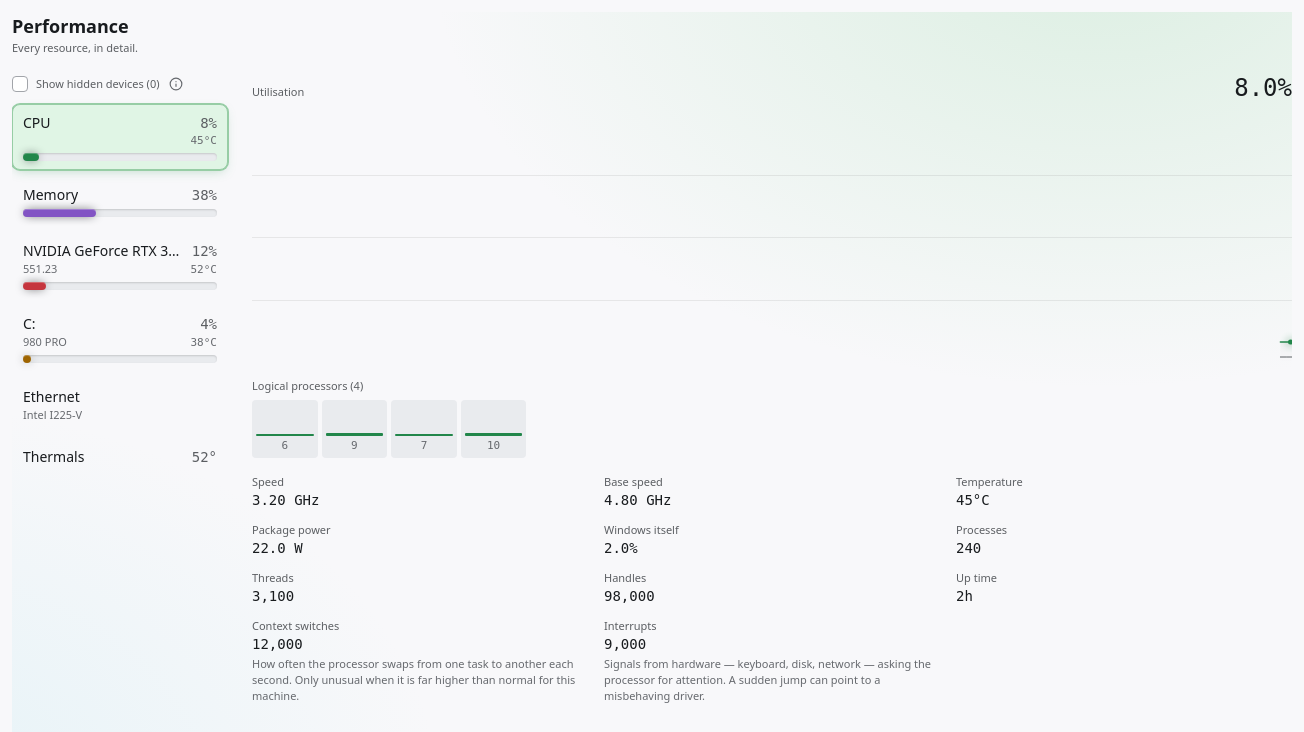
PerformanceScreen › switches panels when a resource is chosen
Click the button "Memory 38%" at (120, 201), box [12, 176, 228, 226]
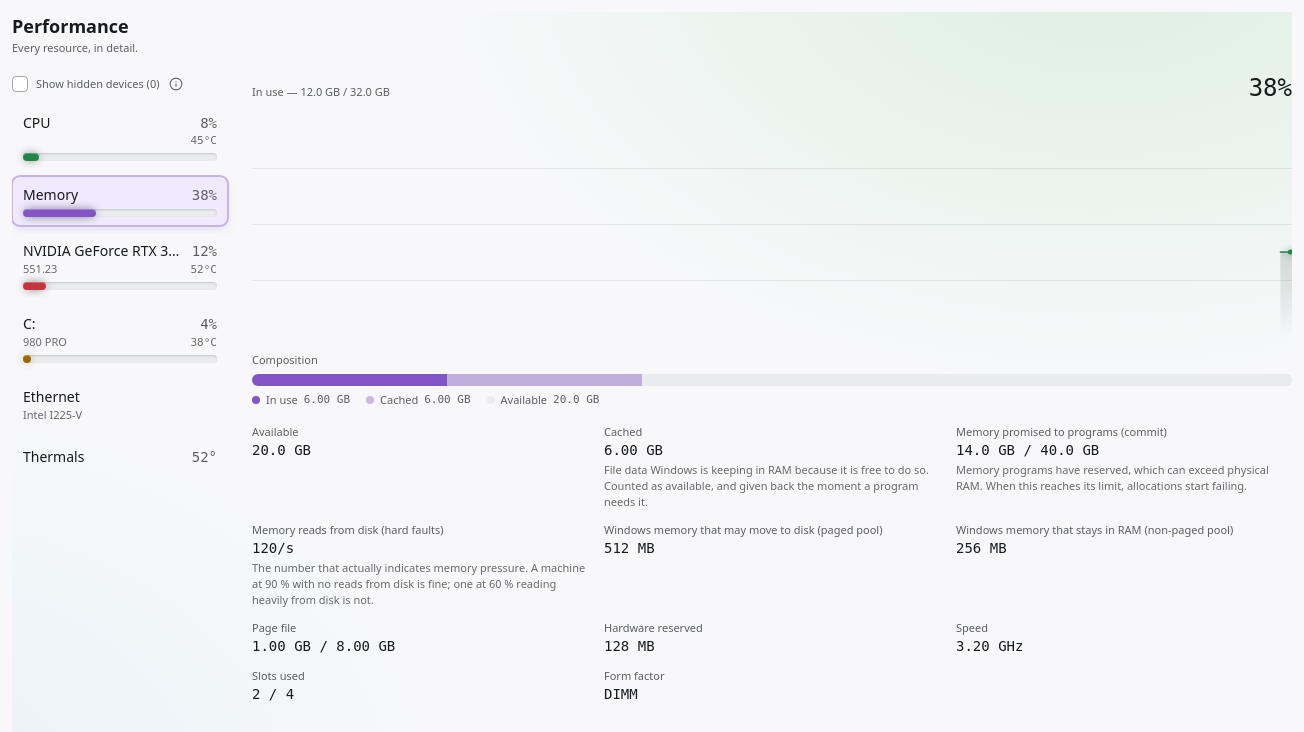
Now the text "Composition" is shown, box [252, 352, 318, 367]
